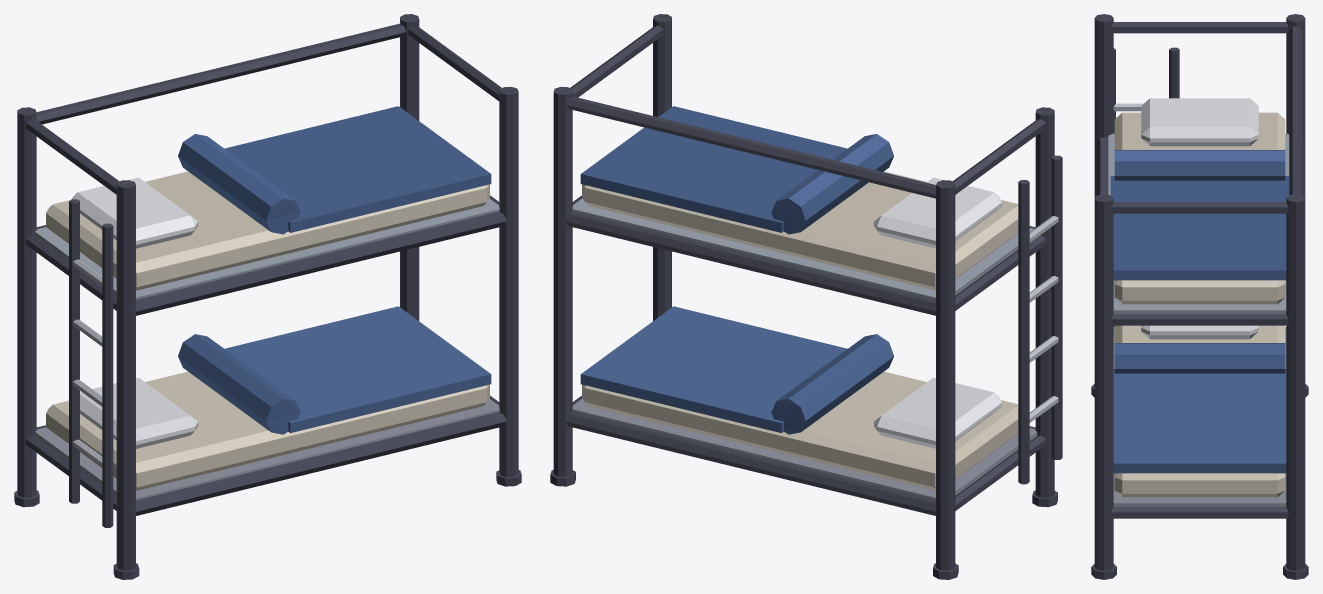
Rendered from Bed_Bunk.fbx.
3 views of the same model, side by side, from view 1: azimuth 30°, elevation 25°; view 2: azimuth 150°, elevation 25°; view 3: azimuth 270°, elevation 25° (orthographic). The views are drawn at different scales.
Visible parts, largest first — view 1: Bed_Bunk; view 2: Bed_Bunk; view 3: Bed_Bunk.
Boxes of the visible parts, x1,y1,x2,y2 form: Bed_Bunk: (14, 14, 521, 579); Bed_Bunk: (550, 14, 1062, 579); Bed_Bunk: (1091, 14, 1308, 579).
Bounding box in the file's own units: 2.16 × 1.95 × 1.02.
